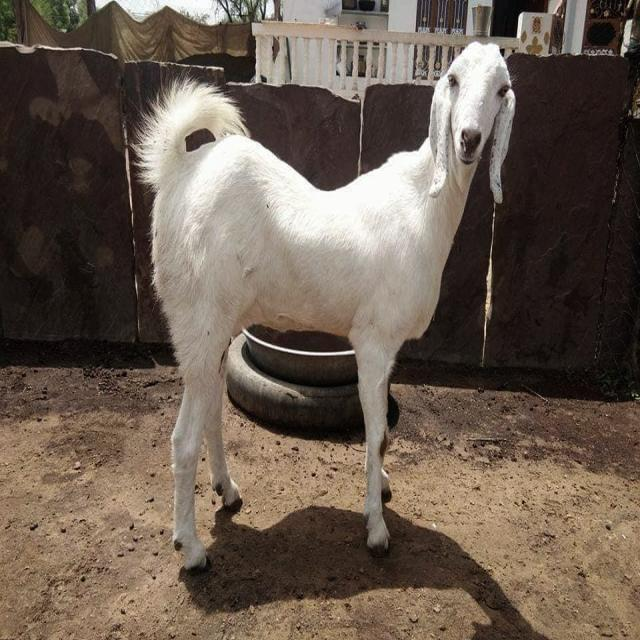Goat: (130, 39, 518, 572)
